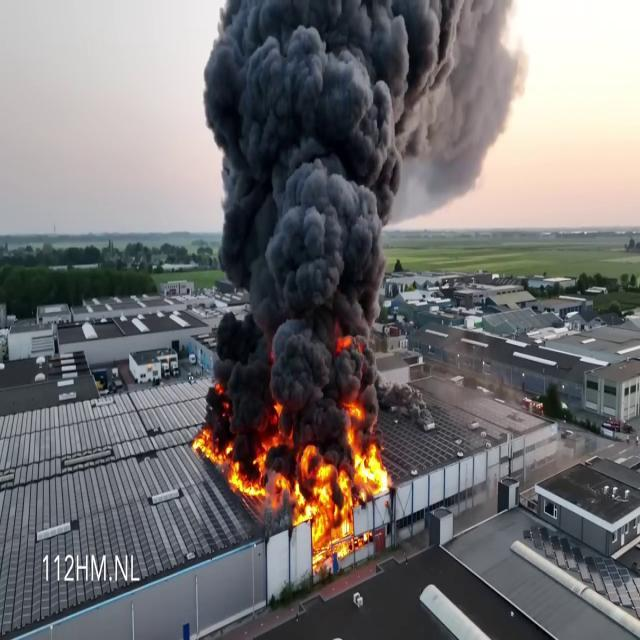Fire: (304, 420, 389, 578), (189, 416, 294, 518)
Smoke: (190, 0, 528, 410)
